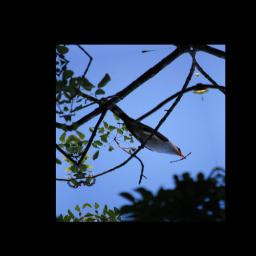Cuckoo: (110, 96, 188, 169)
